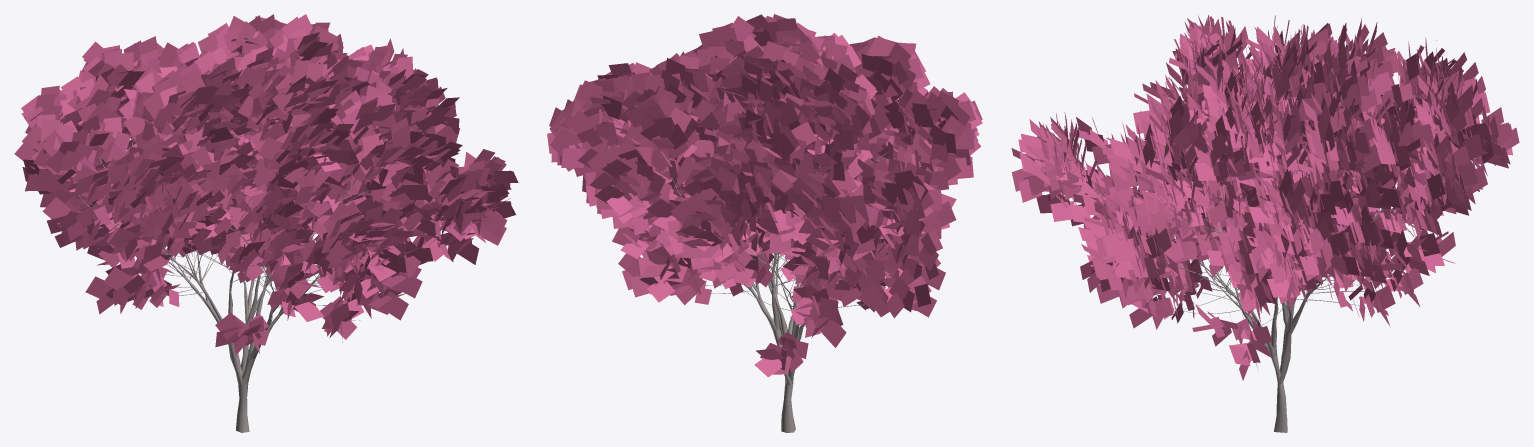
Rendered from Japanese Keyaki Tree Sakuraobj.gltf.
3 renders of one model, left to right at view 1: azimuth 30°, elevation 25°; view 2: azimuth 150°, elevation 25°; view 3: azimuth 270°, elevation 25°, orthographic. The views are drawn at different scales.
Visible parts, largest first — view 1: node-0; view 2: node-0; view 3: node-0.
Boxes of the visible parts, <box> form: node-0: <box>14,14,518,432</box>; node-0: <box>547,14,982,432</box>; node-0: <box>1011,15,1519,432</box>.
Bounding box in the file's own units: 11.8 × 11.05 × 12.74.
